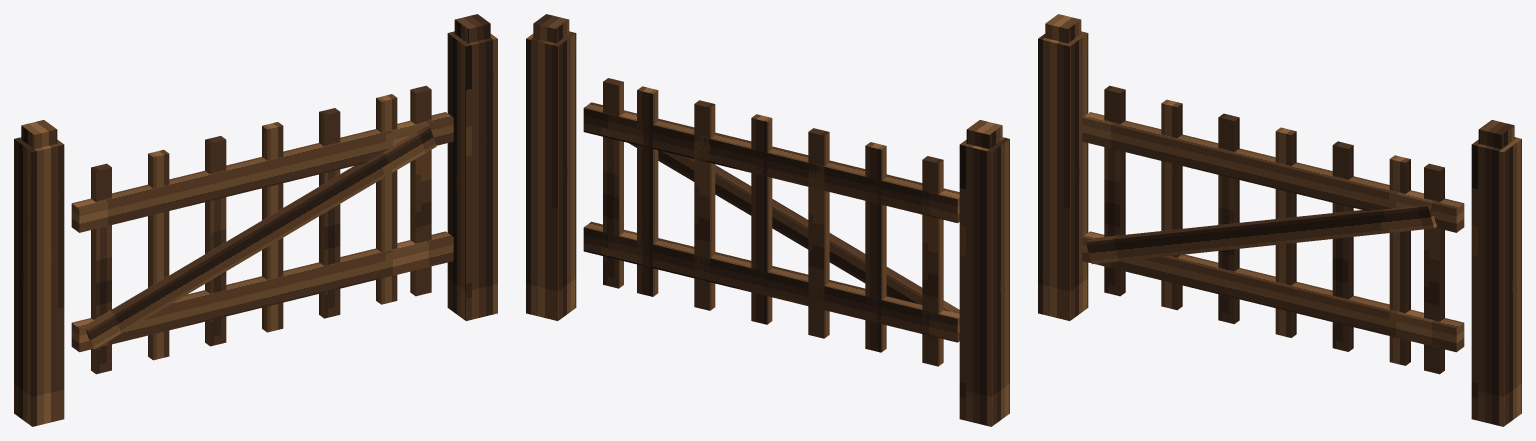
Rendered from MV_Fence_Gate.glb.
3 views of the same model, side by side, from view 1: azimuth 30°, elevation 25°; view 2: azimuth 150°, elevation 25°; view 3: azimuth 330°, elevation 25° (orthographic).
Parts seen in each view (by area): view 1: MV_Fence_Gate_2m_A.MV_Fence_Gate; view 2: MV_Fence_Gate_2m_A.MV_Fence_Gate; view 3: MV_Fence_Gate_2m_A.MV_Fence_Gate.
Part boxes in pixels (x1,y1,x2,y2): MV_Fence_Gate_2m_A.MV_Fence_Gate: (14,14,497,426); MV_Fence_Gate_2m_A.MV_Fence_Gate: (526,14,1009,426); MV_Fence_Gate_2m_A.MV_Fence_Gate: (1038,14,1521,426).
Bounding box in the file's own units: 2.04 × 1.21 × 0.17.
Materials: 1 (1 with a texture image).
